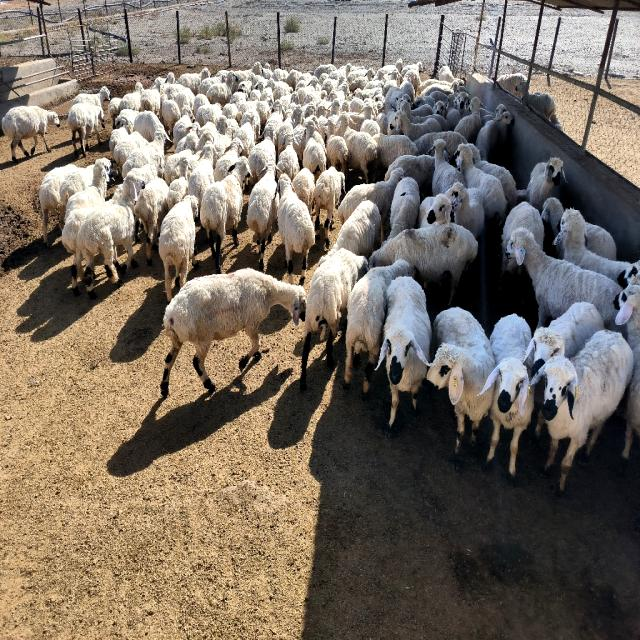sheep: (160, 268, 305, 397), (531, 330, 634, 489), (508, 228, 621, 331), (428, 308, 495, 454), (300, 248, 368, 389), (344, 260, 415, 394), (369, 223, 478, 304), (76, 170, 144, 298), (481, 313, 534, 477), (378, 277, 431, 426), (554, 208, 640, 288), (525, 302, 604, 374), (201, 157, 250, 272), (276, 173, 315, 284), (455, 145, 508, 226), (159, 195, 199, 301), (616, 285, 640, 458), (499, 202, 544, 291), (338, 168, 404, 226), (246, 163, 279, 271), (469, 143, 518, 211), (2, 105, 59, 162), (39, 163, 79, 244), (329, 200, 381, 258), (135, 178, 169, 264), (61, 187, 104, 252), (312, 167, 345, 250), (340, 113, 379, 182), (519, 158, 565, 211), (122, 128, 169, 178), (445, 182, 484, 238), (475, 110, 514, 163), (385, 155, 435, 195), (68, 103, 105, 156), (431, 140, 465, 197), (60, 165, 94, 221), (390, 177, 420, 239), (372, 133, 419, 170), (189, 142, 216, 206), (249, 122, 276, 184), (390, 110, 442, 142), (112, 132, 149, 173), (326, 117, 349, 179), (302, 120, 326, 179), (415, 132, 468, 158), (455, 97, 482, 143), (416, 193, 451, 228), (168, 158, 192, 209), (130, 152, 164, 188), (214, 138, 242, 181), (585, 224, 616, 260), (278, 132, 300, 180), (292, 168, 315, 213), (134, 110, 164, 142), (140, 78, 164, 115), (72, 85, 110, 106), (160, 95, 181, 133), (118, 83, 144, 113), (360, 103, 381, 137), (455, 92, 470, 118), (102, 158, 111, 172)
